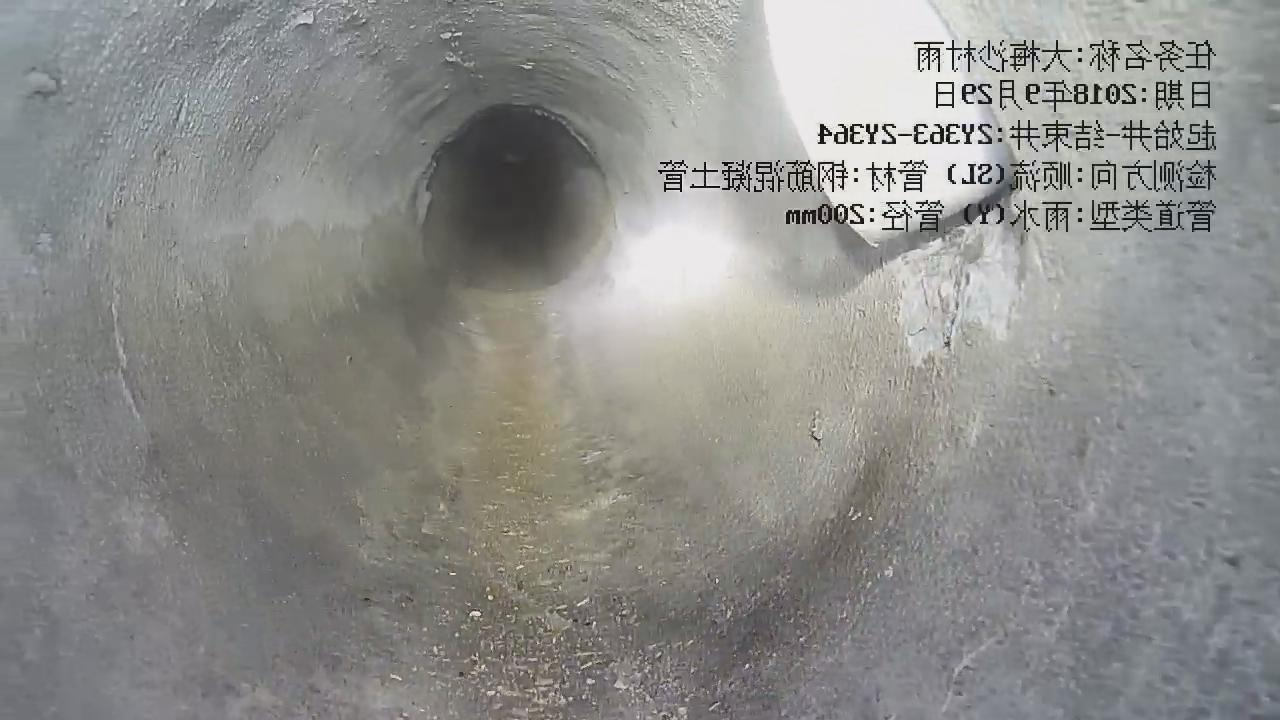ZGAJ: (764, 0, 1011, 246)
